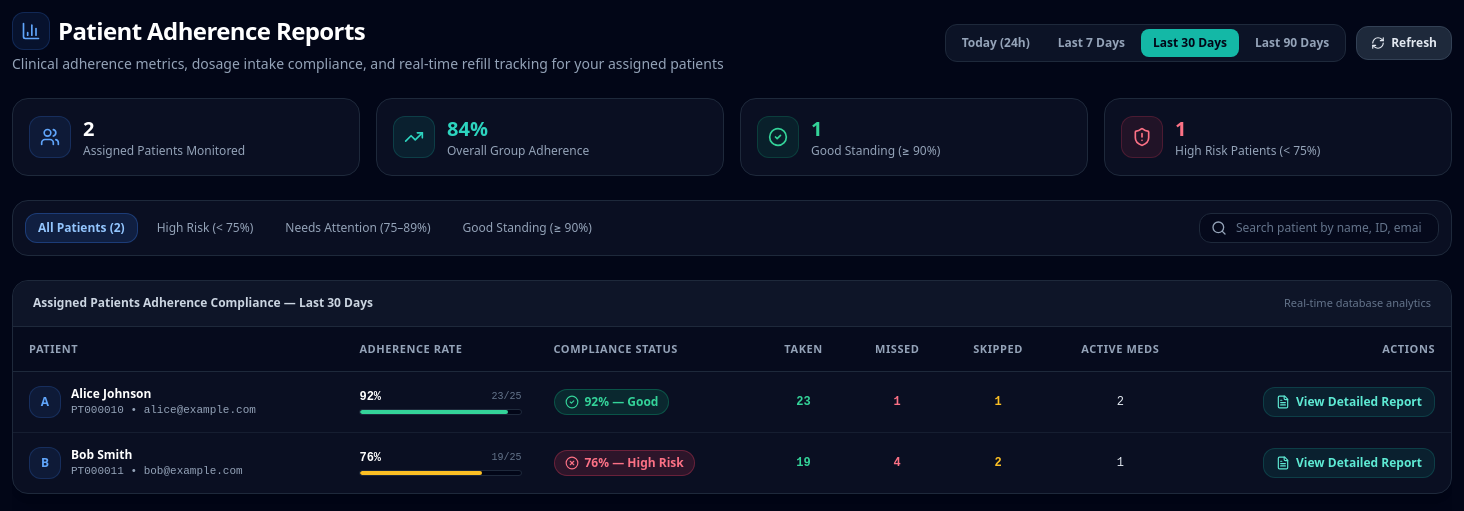
Scenario: CaregiverAdherenceReports Component › renders real database adherence records across assigned patients
Expected: the text "Alice Johnson" is shown, [71, 385, 151, 402]
Expected: the text "Bob Smith" is shown, [71, 446, 132, 463]
# Test search filter
Type "Alice" into the field with placeholder "Search patient by name, ID, email...". click: coordinates (1319, 228)
box: [1199, 213, 1439, 243]
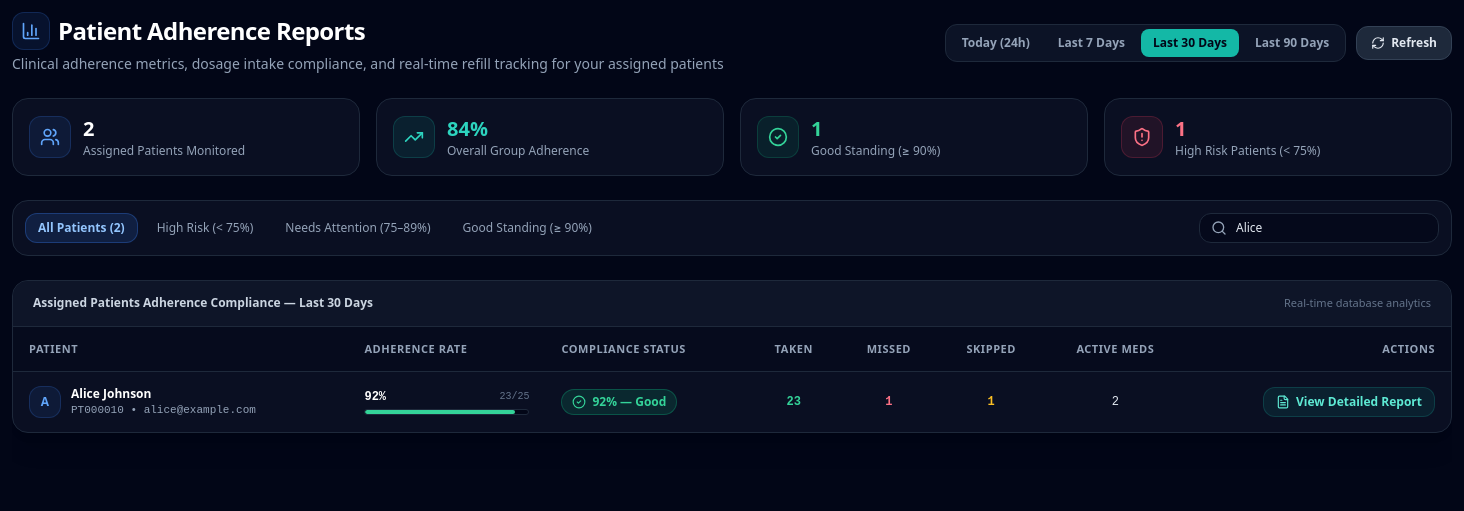
Expected: the text "Alice Johnson" is shown, [71, 385, 151, 402]
Expected: the text "Bob Smith" is gone
